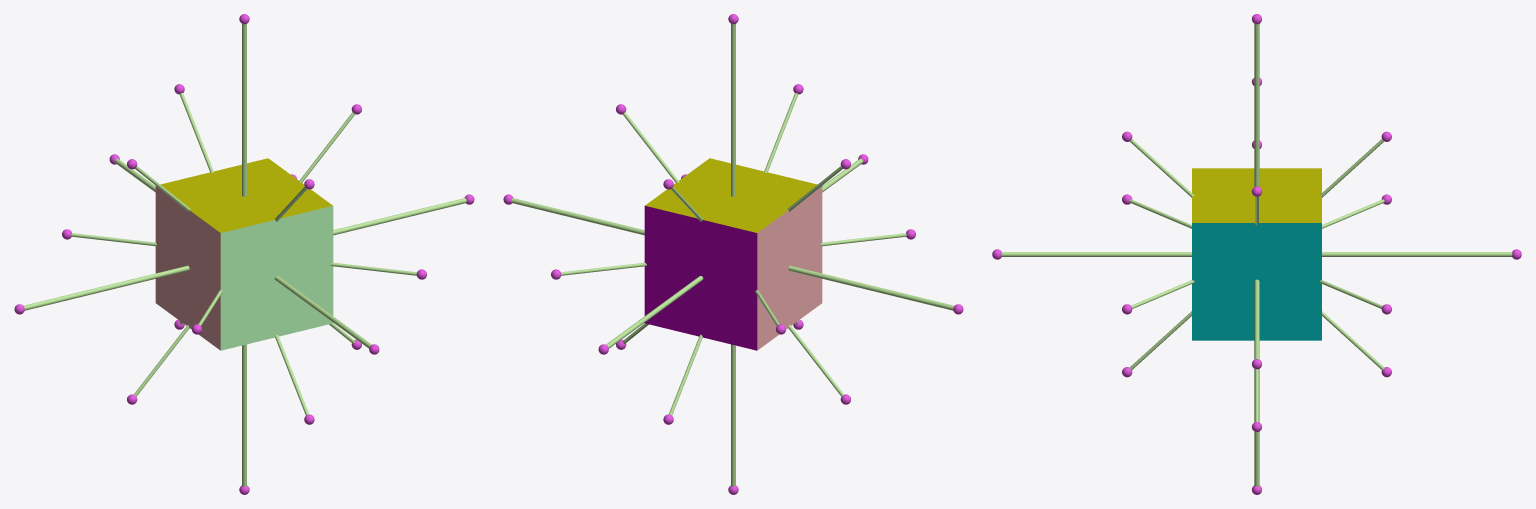
3 renders of one model, left to right at view 1: azimuth 30°, elevation 25°; view 2: azimuth 150°, elevation 25°; view 3: azimuth 270°, elevation 25°, orthographic.
Parts seen in each view (by area): view 1: (110)(-101)(00-2), (-110)(10-1)(002), (-110)(101)(00-2), (01-1)(-101)(200), (011)(-10-1)(200), (011)(10-1)(-200), (01-1)(101)(-200), (110)(-10-1)(002), (110)(0-11)(00-2), (10-1)(011)(0-20), (-200)R, (1-10)(011)(00-2) (+17 smaller); view 2: (1-10)(-101)(00-2), (-1-10)(10-1)(002), (-1-10)(101)(00-2), (0-1-1)(-101)(200), (0-11)(-10-1)(200), (0-11)(10-1)(-200), (0-1-1)(101)(-200), (1-10)(-10-1)(002), (1-10)(011)(00-2), (10-1)(0-11)(020), (-200)R, (110)(0-11)(00-2) (+17 smaller); view 3: (-1-10)(011)(00-2), (-110)(0-11)(00-2), (-101)(0-1-1)(020), (-101)(01-1)(0-20), (-110)(0-1-1)(002), (-1-10)(01-1)(002), (-10-1)(0-11)(020), (-10-1)(011)(0-20), (002)R, (020)R, (0-20)R, (01-1)(1-10)(-200) (+7 smaller).
Part boxes in pixels (x1,y1,x2,y2): (110)(-101)(00-2): [279, 206, 333, 277]; (-110)(10-1)(002): [220, 279, 275, 350]; (-110)(101)(00-2): [220, 233, 274, 291]; (01-1)(-101)(200): [221, 280, 276, 350]; (011)(-10-1)(200): [221, 220, 276, 276]; (011)(10-1)(-200): [277, 206, 332, 275]; (01-1)(101)(-200): [277, 282, 332, 336]; (110)(-10-1)(002): [280, 265, 333, 322]; (110)(0-11)(00-2): [155, 186, 186, 265]; (10-1)(011)(0-20): [156, 271, 188, 325]; (-200)R: [23, 265, 189, 310]; (1-10)(011)(00-2): [189, 233, 220, 290]; (1-10)(-101)(00-2): [644, 206, 698, 277]; (-1-10)(10-1)(002): [702, 279, 757, 350]; (-1-10)(101)(00-2): [703, 233, 757, 291]; (0-1-1)(-101)(200): [701, 280, 756, 350]; (0-11)(-10-1)(200): [701, 220, 756, 276]; (0-11)(10-1)(-200): [645, 206, 700, 275]; (0-1-1)(101)(-200): [645, 282, 700, 336]; (1-10)(-10-1)(002): [644, 265, 697, 322]; (1-10)(011)(00-2): [791, 186, 822, 265]; (10-1)(0-11)(020): [789, 271, 821, 325]; (-200)R: [788, 265, 954, 310]; (110)(0-11)(00-2): [757, 233, 788, 290]; (-1-10)(011)(00-2): [1192, 223, 1254, 281]; (-110)(0-11)(00-2): [1259, 223, 1321, 281]; (-101)(0-1-1)(020): [1192, 223, 1256, 279]; (-101)(01-1)(0-20): [1257, 223, 1321, 279]; (-110)(0-1-1)(002): [1259, 282, 1321, 340]; (-1-10)(01-1)(002): [1192, 282, 1254, 340]; (-10-1)(0-11)(020): [1192, 284, 1254, 340]; (-10-1)(011)(0-20): [1259, 285, 1321, 340]; (002)R: [1254, 24, 1259, 186]; (020)R: [1322, 252, 1512, 256]; (0-20)R: [1001, 252, 1191, 256]; (01-1)(1-10)(-200): [1259, 195, 1321, 222].
Size of the model in its own units: 4.08 by 4.08 by 4.08.
